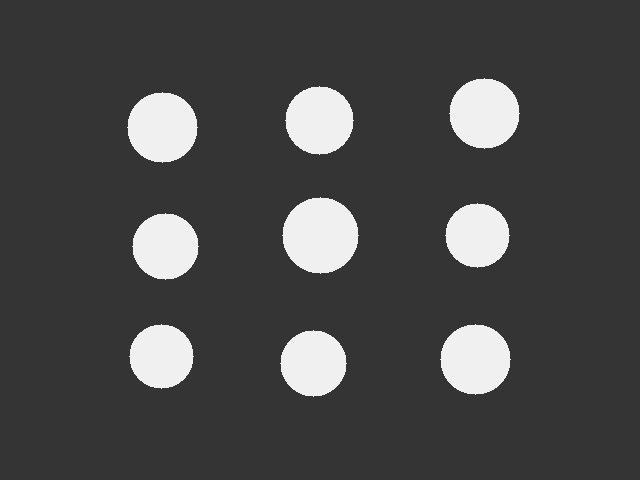hole: (282, 197, 358, 273), (127, 92, 197, 162), (449, 78, 519, 148), (440, 324, 510, 394), (285, 86, 353, 154), (132, 213, 198, 279), (280, 330, 346, 396), (445, 203, 509, 267), (129, 324, 193, 388)
